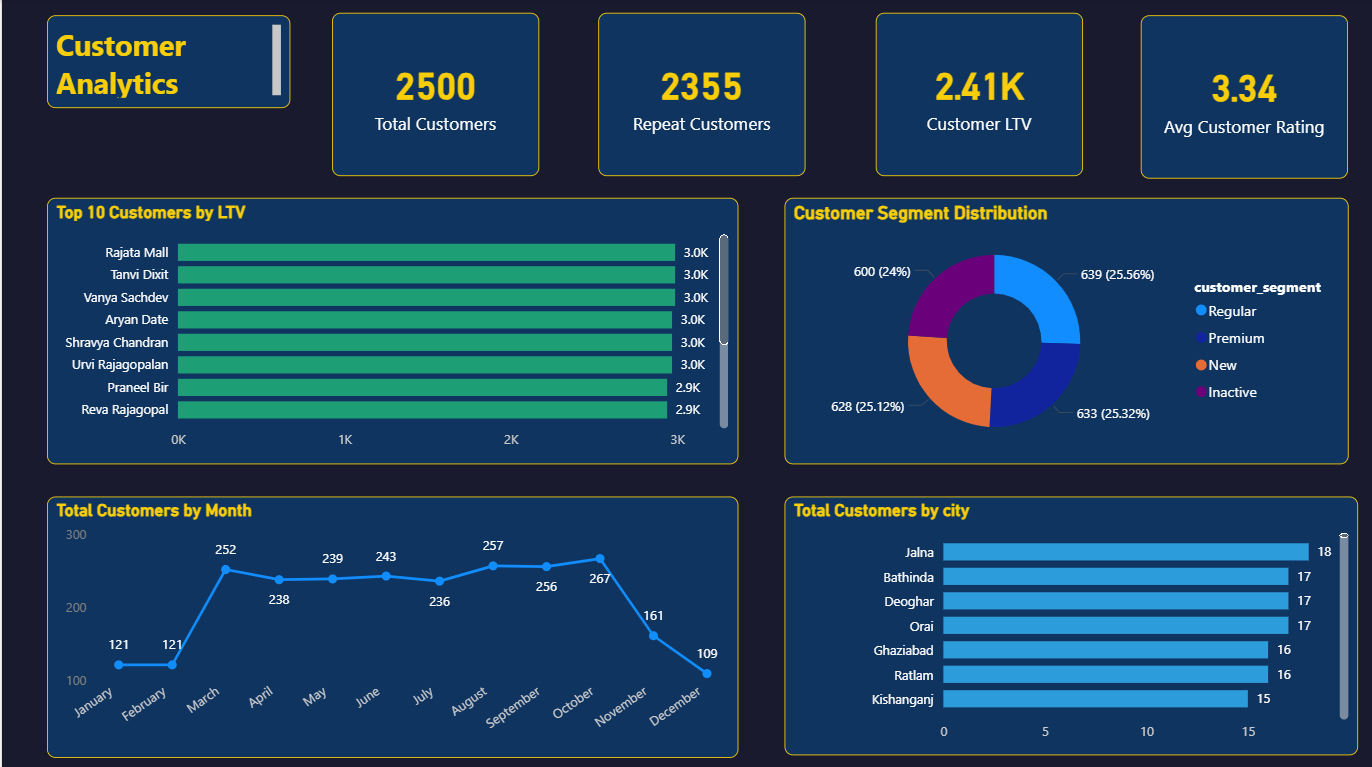

What the dashboard file says about the page in this screenshot:
{"tool":"powerbi","page":{"name":"Customer Analytics","canvas":[1280,720],"ordinal":1},"visuals":[{"type":"card","fields":{"Values":["_Measures.Total Customers"]},"box":[307,12.8,193,152.3],"z":0},{"type":"card","fields":{"Values":["_Measures.Repeat Customers"]},"box":[554.7,12.8,193,152.3],"z":1000},{"type":"card","fields":{"Values":["_Measures.Customer LTV"]},"box":[812.8,12.8,193,152.3],"z":2000},{"type":"card","fields":{"Values":["_Measures.Avg Customer Rating"]},"box":[1059.3,15.1,193,152.3],"z":3000},{"type":"clusteredBarChart","title":"Top 10 Customers by LTV","fields":{"Category":["customers.customer_name"],"Y":["_Measures.Customer LTV"]},"box":[41.9,184.9,643,247.7],"z":4000},{"type":"donutChart","title":"Customer Segment Distribution","fields":{"Category":["customers.customer_segment"],"Y":["_Measures.Total Customers"]},"box":[727.9,184.9,524.4,247.7],"z":5000},{"type":"lineChart","fields":{"Y":["_Measures.Total Customers"],"Category":["customers.registration_date.Variation.Date Hierarchy.Month"]},"box":[41.9,462.8,643,243],"z":6000},{"type":"barChart","fields":{"Y":["_Measures.Total Customers"],"Category":["customers.city"]},"box":[727.9,462.8,533.7,240.7],"z":7000},{"type":"textbox","box":[41.9,15.1,226.7,86],"z":8000}]}

Visuals, with their boxes in screenshot pixels (x1, y1, x2, y2), scaled from the page's 1280x720 canvas onto the 1372x767 screenshot:
card - _Measures.Total Customers: [left=329, top=14, right=536, bottom=176]
card - _Measures.Repeat Customers: [left=595, top=14, right=801, bottom=176]
card - _Measures.Customer LTV: [left=871, top=14, right=1078, bottom=176]
card - _Measures.Avg Customer Rating: [left=1135, top=16, right=1342, bottom=178]
"Top 10 Customers by LTV" clusteredBarChart: [left=45, top=197, right=734, bottom=461]
"Customer Segment Distribution" donutChart: [left=780, top=197, right=1342, bottom=461]
lineChart - _Measures.Total Customers x customers.registration_date.Variation.Date Hierarchy.Month: [left=45, top=493, right=734, bottom=752]
barChart - _Measures.Total Customers x customers.city: [left=780, top=493, right=1352, bottom=749]
textbox: [left=45, top=16, right=288, bottom=108]
